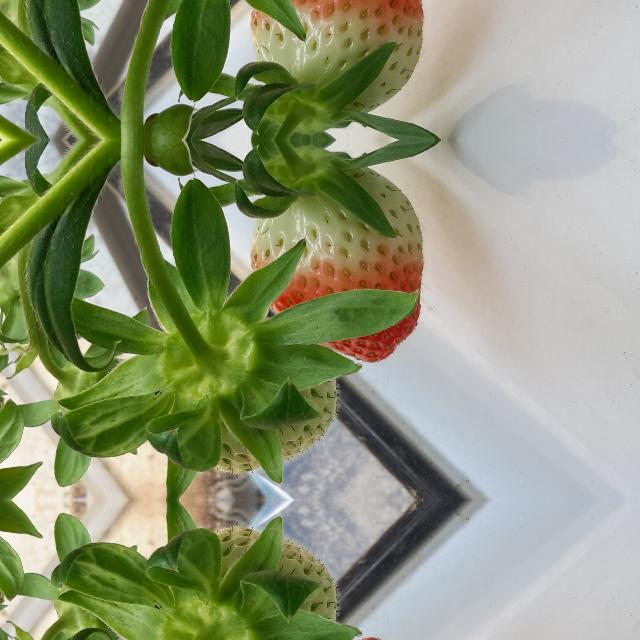Health_50: (249, 166, 423, 362), (249, 0, 423, 113)
